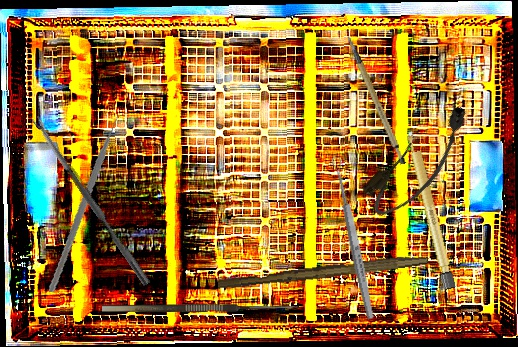Cannula: (356, 98, 486, 225)
Chopper: (18, 111, 164, 293)
Hook Surgical: (102, 294, 299, 312)
Scalpel Handle: (216, 249, 430, 294), (404, 126, 457, 291), (347, 30, 408, 170)
Surgical Spoon: (31, 114, 152, 287), (330, 155, 377, 321)
